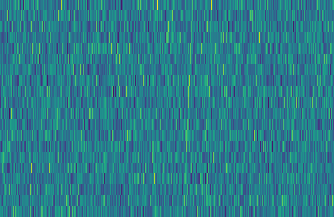signal: (179, 0, 197, 217)
